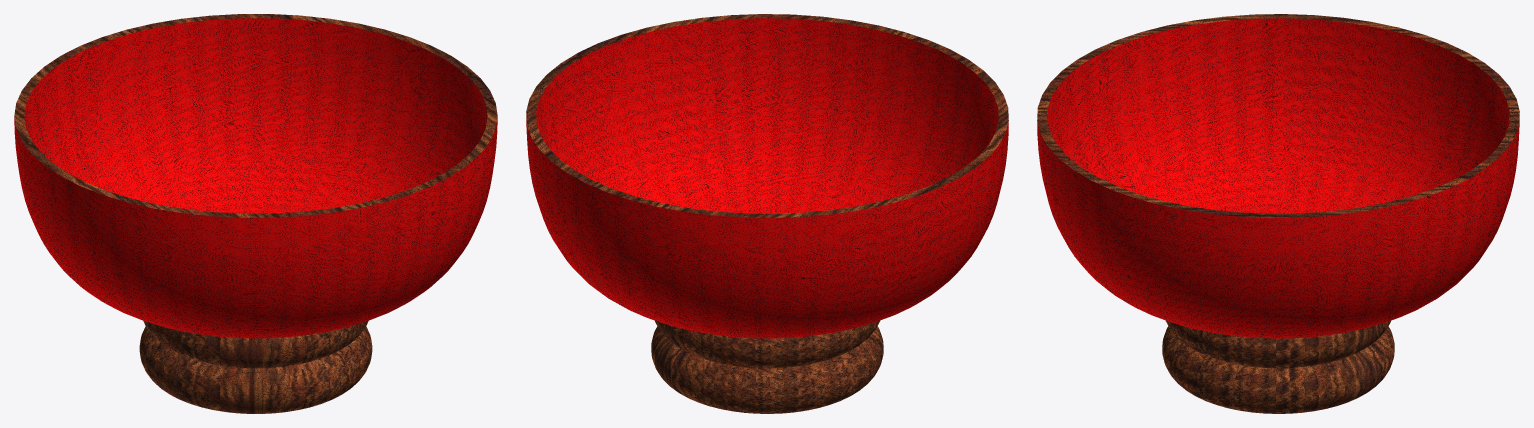
Rendered from bowl_04_origin_gt.dae.
3 renders of one model, left to right at view 1: azimuth 30°, elevation 25°; view 2: azimuth 150°, elevation 25°; view 3: azimuth 270°, elevation 25°, orthographic.
Parts seen in each view (by area): view 1: FruitBowl (×3); view 2: FruitBowl (×3); view 3: FruitBowl (×3).
Boxes of the visible parts, x1=… form: FruitBowl (×3): x1=14, y1=14, x2=497, y2=413; FruitBowl (×3): x1=526, y1=14, x2=1008, y2=413; FruitBowl (×3): x1=1037, y1=14, x2=1519, y2=413.
Bounding box in the file's own units: 3.84 × 3.84 × 2.24.
Materials: 3 (1 with a texture image).
